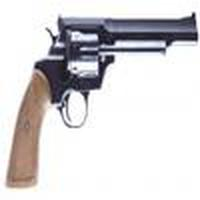gun: (3, 15, 200, 178)
